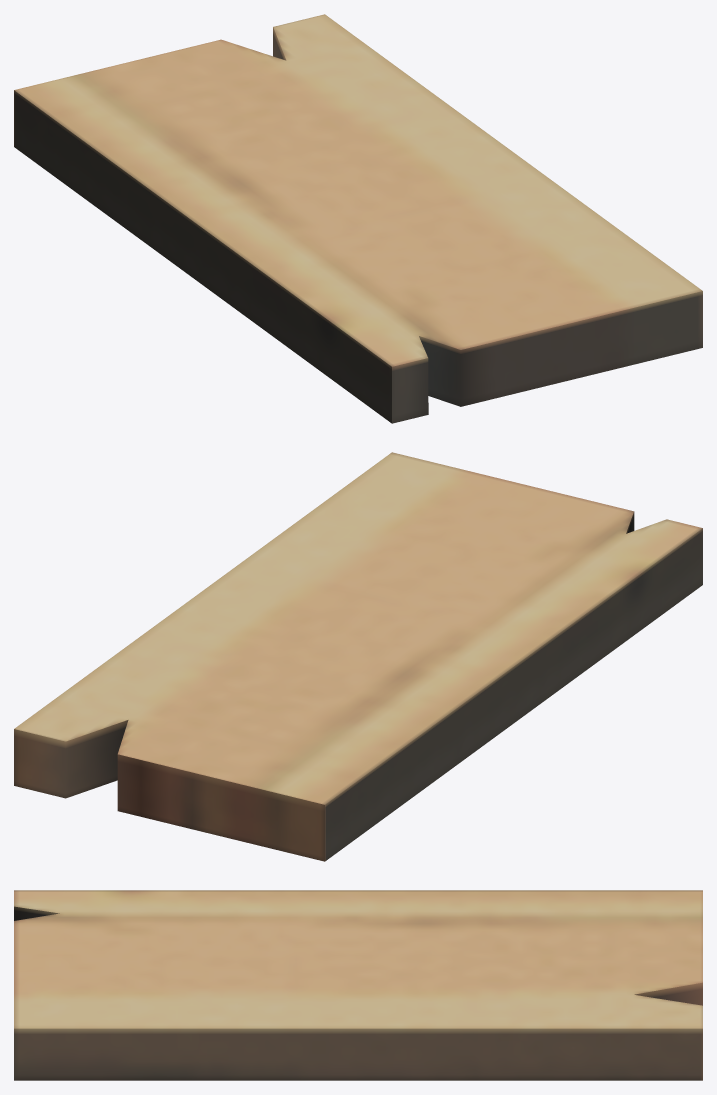
File: Flotsam_Wood.fbx
The picture shows the model from 3 angles, top to bottom: view 1: azimuth 30°, elevation 25°; view 2: azimuth 150°, elevation 25°; view 3: azimuth 270°, elevation 25°; orthographic projection. The views are drawn at different scales.
Parts seen in each view (by area): view 1: mokuzai_mesh; view 2: mokuzai_mesh; view 3: mokuzai_mesh.
Part boxes in pixels (left/top/right/bottom): mokuzai_mesh: left=14, top=14, right=702, bottom=423; mokuzai_mesh: left=14, top=452, right=702, bottom=861; mokuzai_mesh: left=14, top=890, right=702, bottom=1080.
Size of the model in its own units: 0.8104 by 0.1416 by 1.71.
1 material, 1 textured.
